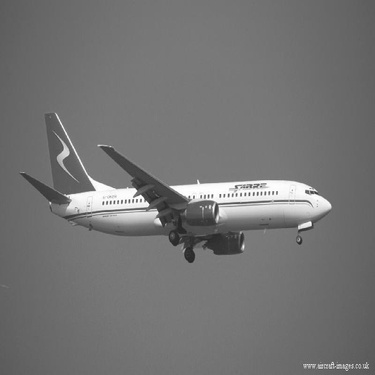airplane: (15, 105, 337, 258)
